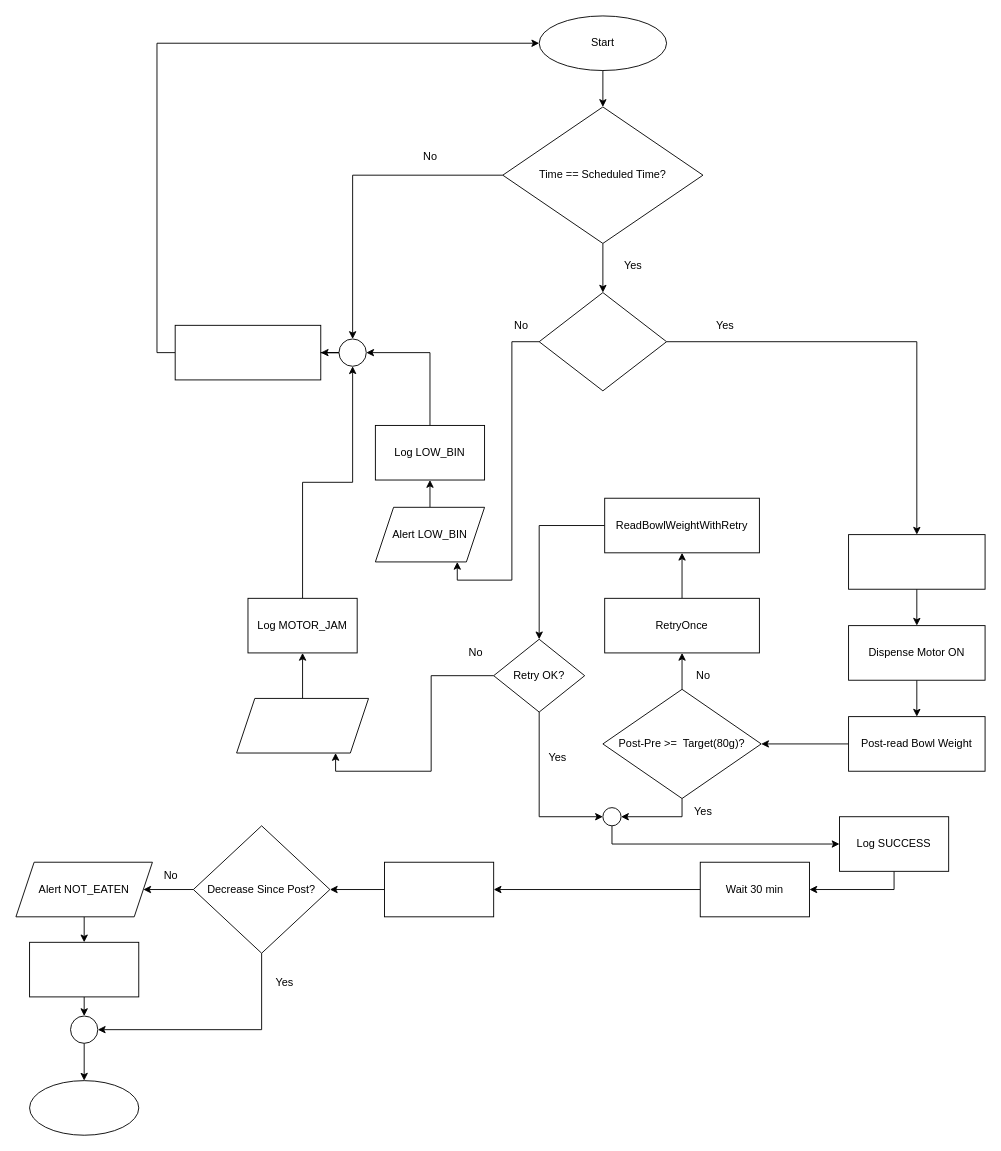
The diagram is 1001 pixels wide and 1151 high, and some of its shapes have lost their labels. Each missing label, with the centre of its shape:
Alert MOTOR_JAM: (x=302, y=725)
Bin Level OK?: (x=602, y=341)
End: (x=84, y=1107)
Log NOT_EATEN: (x=84, y=969)
Pre-read Bowl Weight: (x=916, y=561)
Read Bowl Now: (x=439, y=889)
Wait 1 min: (x=247, y=352)
